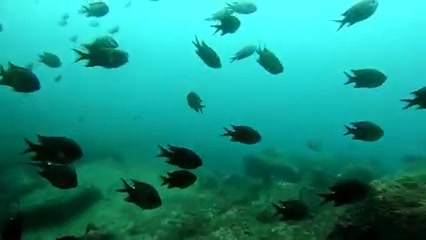mezina: (21, 126, 92, 167), (113, 173, 174, 220), (317, 178, 388, 211), (185, 34, 229, 84), (148, 140, 210, 175), (336, 115, 389, 151), (216, 116, 268, 152), (76, 43, 138, 72), (337, 63, 398, 89), (253, 44, 292, 81), (337, 1, 385, 29), (273, 195, 316, 225), (151, 168, 198, 194), (209, 11, 252, 39), (67, 1, 121, 22), (220, 1, 259, 21), (227, 40, 261, 62)
smallfish: (1, 61, 46, 97), (37, 49, 66, 75), (182, 88, 209, 113)
